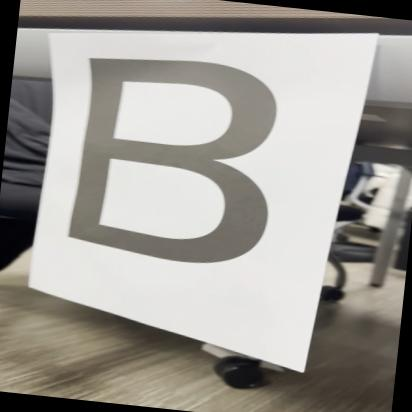seat: (50, 36, 312, 286)
